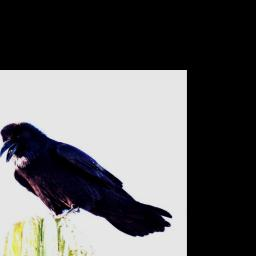Crow: (0, 107, 174, 251)
